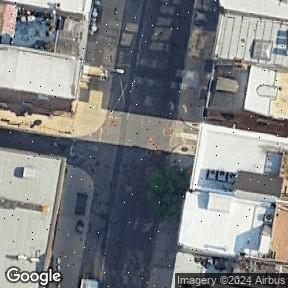vegetation: (144, 169, 189, 220)
